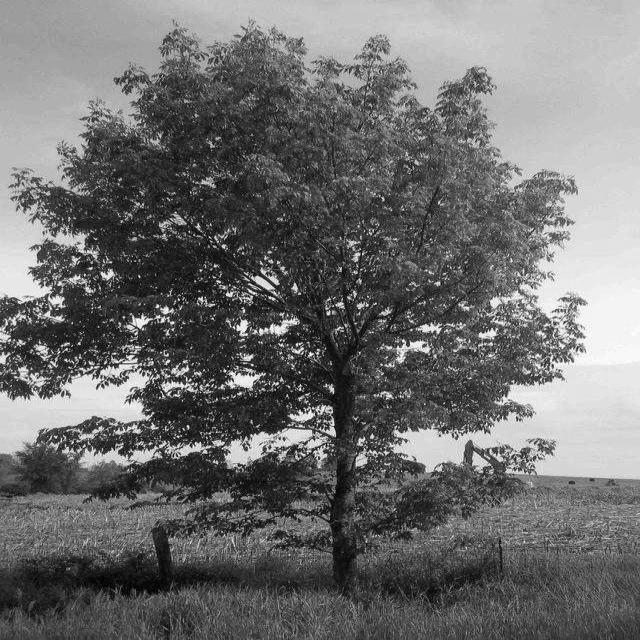Tree: (3, 25, 583, 591)
